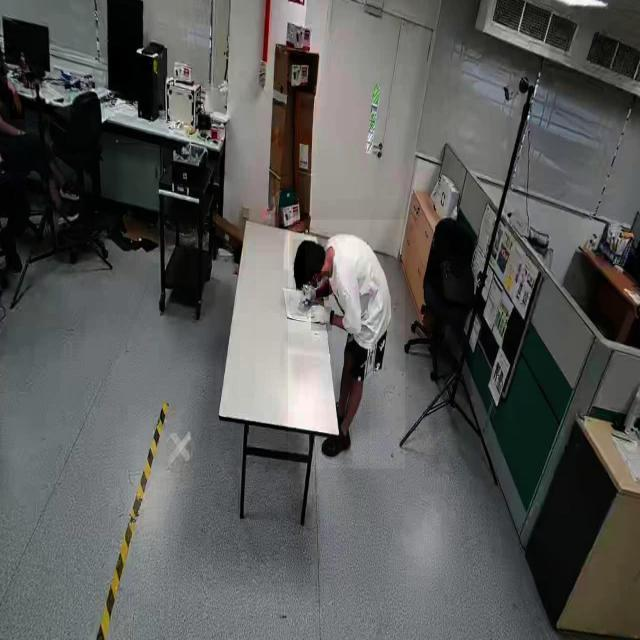face_mask: (311, 271, 329, 301)
hand_glove: (311, 306, 332, 331)
hand_noglove: (10, 91, 25, 120)
head_nohelmet: (292, 239, 306, 292)
person: (288, 220, 406, 470)
shoes: (322, 421, 352, 459)
